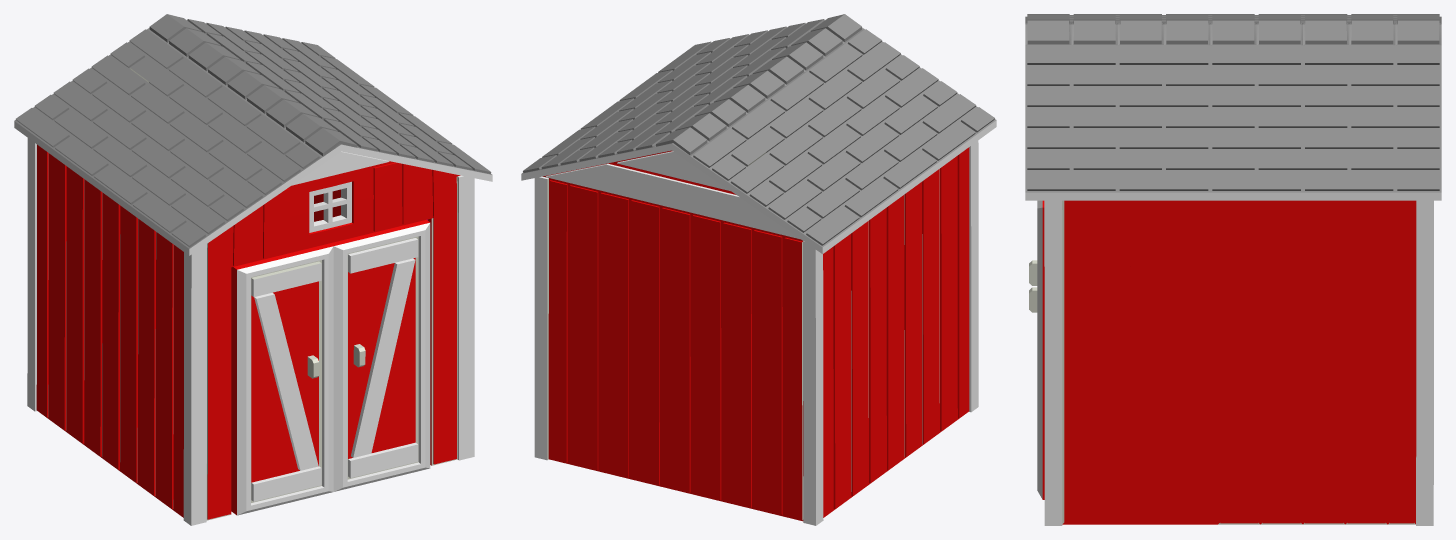
Rendered from washRoom.glb.
3 renders of one model, left to right at view 1: azimuth 30°, elevation 25°; view 2: azimuth 150°, elevation 25°; view 3: azimuth 270°, elevation 25°, orthographic. The views are drawn at different scales.
Parts seen in each view (by area): view 1: Cube1; view 2: Cube1; view 3: Cube1.
Part boxes in pixels (left/top/right/bottom): Cube1: left=14, top=14, right=492, bottom=525; Cube1: left=521, top=14, right=996, bottom=525; Cube1: left=1025, top=14, right=1441, bottom=525.
Size of the model in its own units: 29.17 by 32.69 by 29.17.
